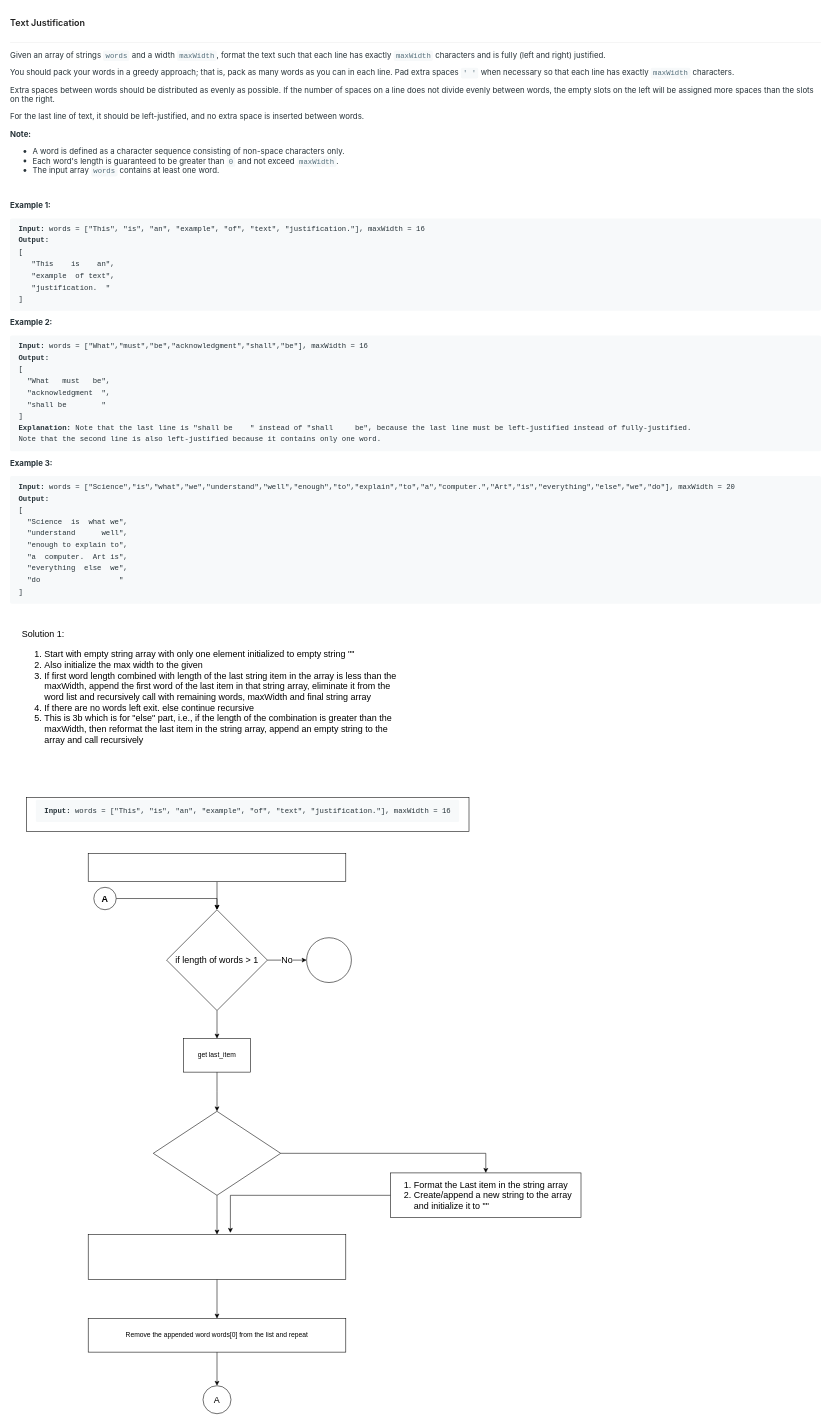
The diagram is 831 pixels wide and 1424 high, and some of its shapes have lost their labels. The centre of each missing label's shape, as x and y in pixels:
Append first word, words[0],: (x=217, y=1256)
END: (x=328, y=960)
length(last_item+space+first_word) <=maxWidth?: (x=217, y=1153)
words["This", "is", "an", "example", "..", "..",...], maxWidth=16, result="": (x=217, y=867)
